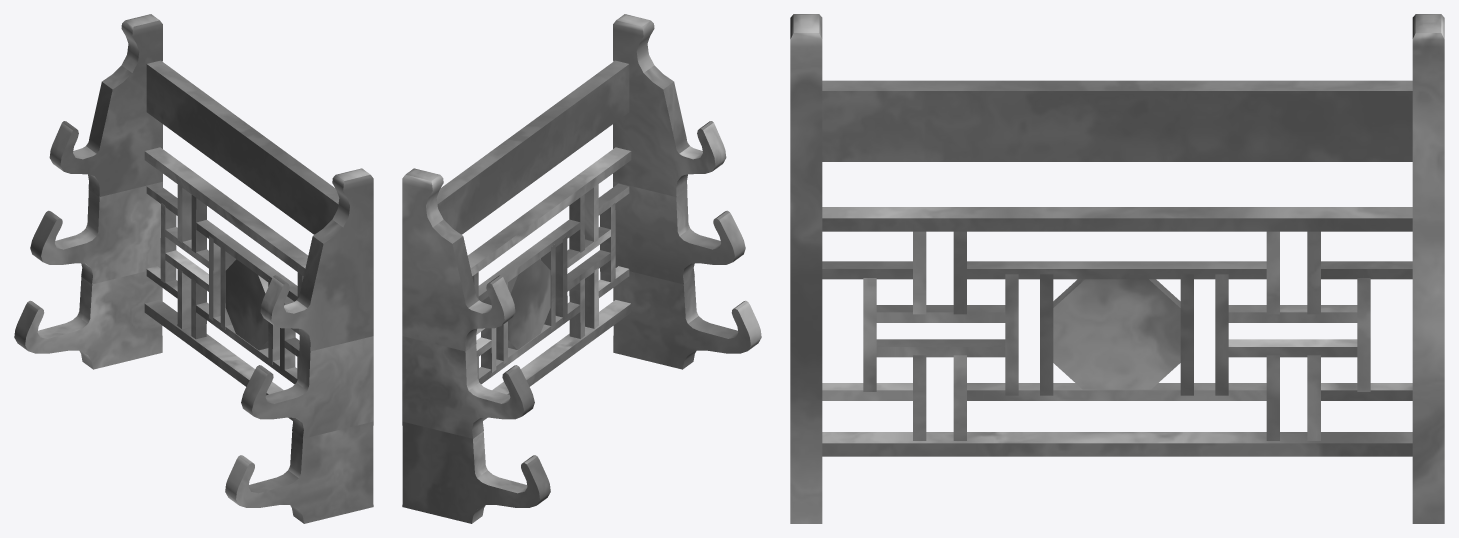
Rendered from sm_support_weapons_10.fbx.
3 views of the same model, side by side, from view 1: azimuth 30°, elevation 25°; view 2: azimuth 150°, elevation 25°; view 3: azimuth 270°, elevation 25° (orthographic). The views are drawn at different scales.
Parts seen in each view (by area): view 1: sm_support_weapons_10; view 2: sm_support_weapons_10; view 3: sm_support_weapons_10.
Boxes of the visible parts, left/top/right/bottom form: sm_support_weapons_10: left=14, top=14, right=373, bottom=523; sm_support_weapons_10: left=402, top=14, right=761, bottom=523; sm_support_weapons_10: left=790, top=14, right=1444, bottom=523.
Size of the model in its own units: 44.46 by 124 by 103.
1 material, 1 textured.
